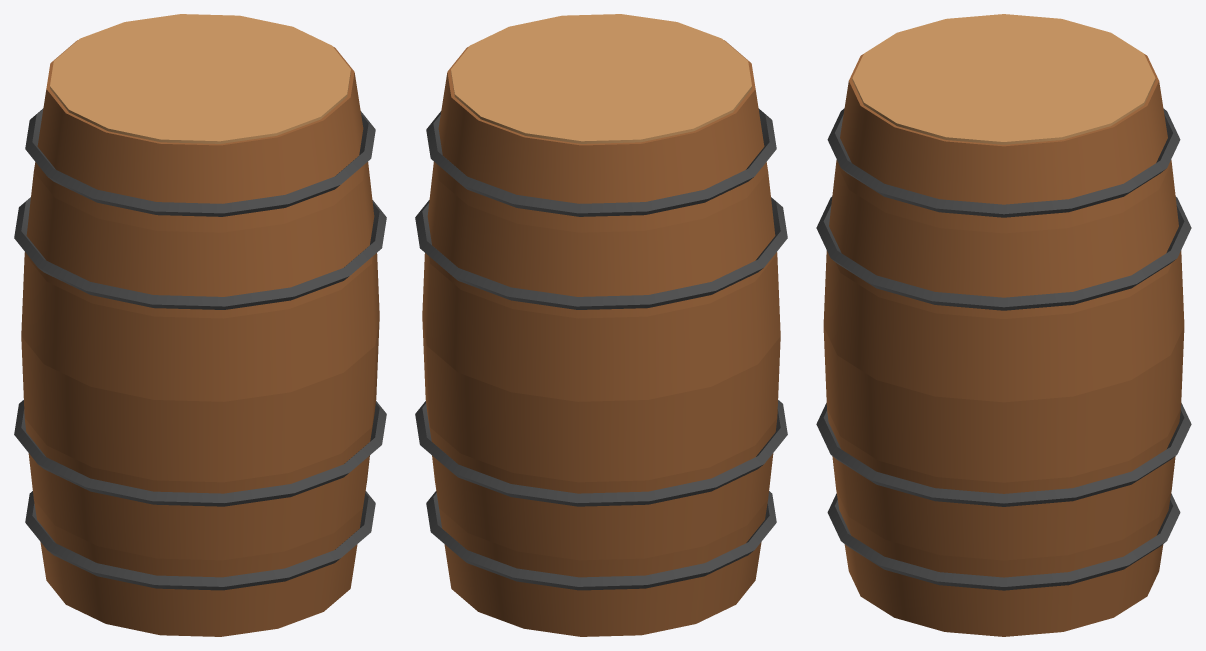
File: barril_madeira.glb
3 views of the same model, side by side, from view 1: azimuth 30°, elevation 25°; view 2: azimuth 150°, elevation 25°; view 3: azimuth 270°, elevation 25° (orthographic).
Parts seen in each view (by area): view 1: Barril_Madeira; view 2: Barril_Madeira; view 3: Barril_Madeira.
Boxes of the visible parts, left/top/right/bottom form: Barril_Madeira: left=14, top=14, right=386, bottom=636; Barril_Madeira: left=415, top=14, right=787, bottom=636; Barril_Madeira: left=816, top=14, right=1191, bottom=636.
Bounding box in the file's own units: 0.624 × 0.905 × 0.624.
